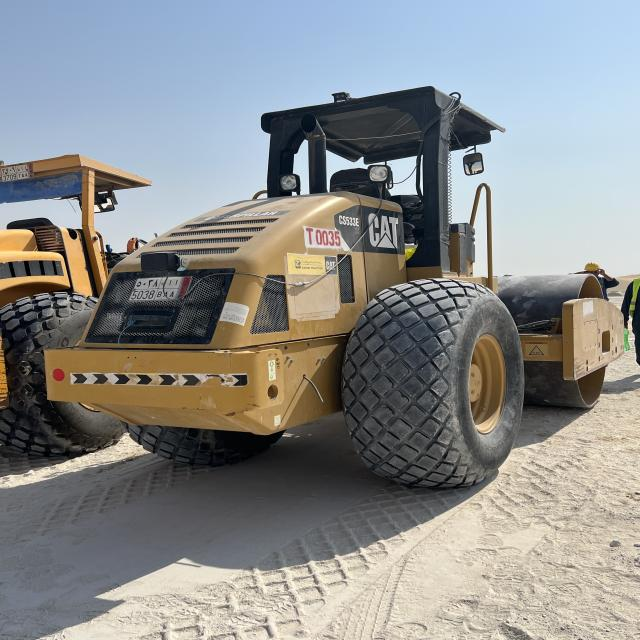Roller: (42, 84, 621, 507)
